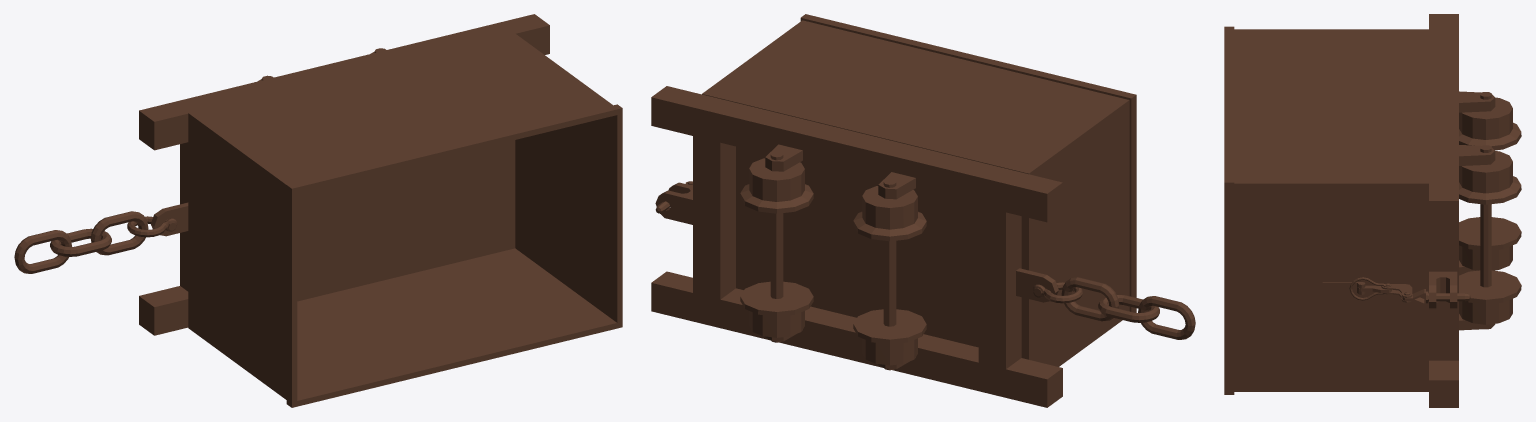
The model's file is minecart.obj.
3 views of the same model, side by side, from view 1: azimuth 30°, elevation 25°; view 2: azimuth 150°, elevation 25°; view 3: azimuth 270°, elevation 25° (orthographic). The views are drawn at different scales.
Visible parts, largest first — view 1: product-32e3055b-efcd-44a3-8fea-c175f99c5d22-body; view 2: product-32e3055b-efcd-44a3-8fea-c175f99c5d22-body; view 3: product-32e3055b-efcd-44a3-8fea-c175f99c5d22-body.
Part boxes in pixels (<box>): product-32e3055b-efcd-44a3-8fea-c175f99c5d22-body: <box>14,14,622,407</box>; product-32e3055b-efcd-44a3-8fea-c175f99c5d22-body: <box>651,14,1195,407</box>; product-32e3055b-efcd-44a3-8fea-c175f99c5d22-body: <box>1224,14,1521,407</box>.
Bounding box in the file's own units: 2.33 × 0.9197 × 1.17.
